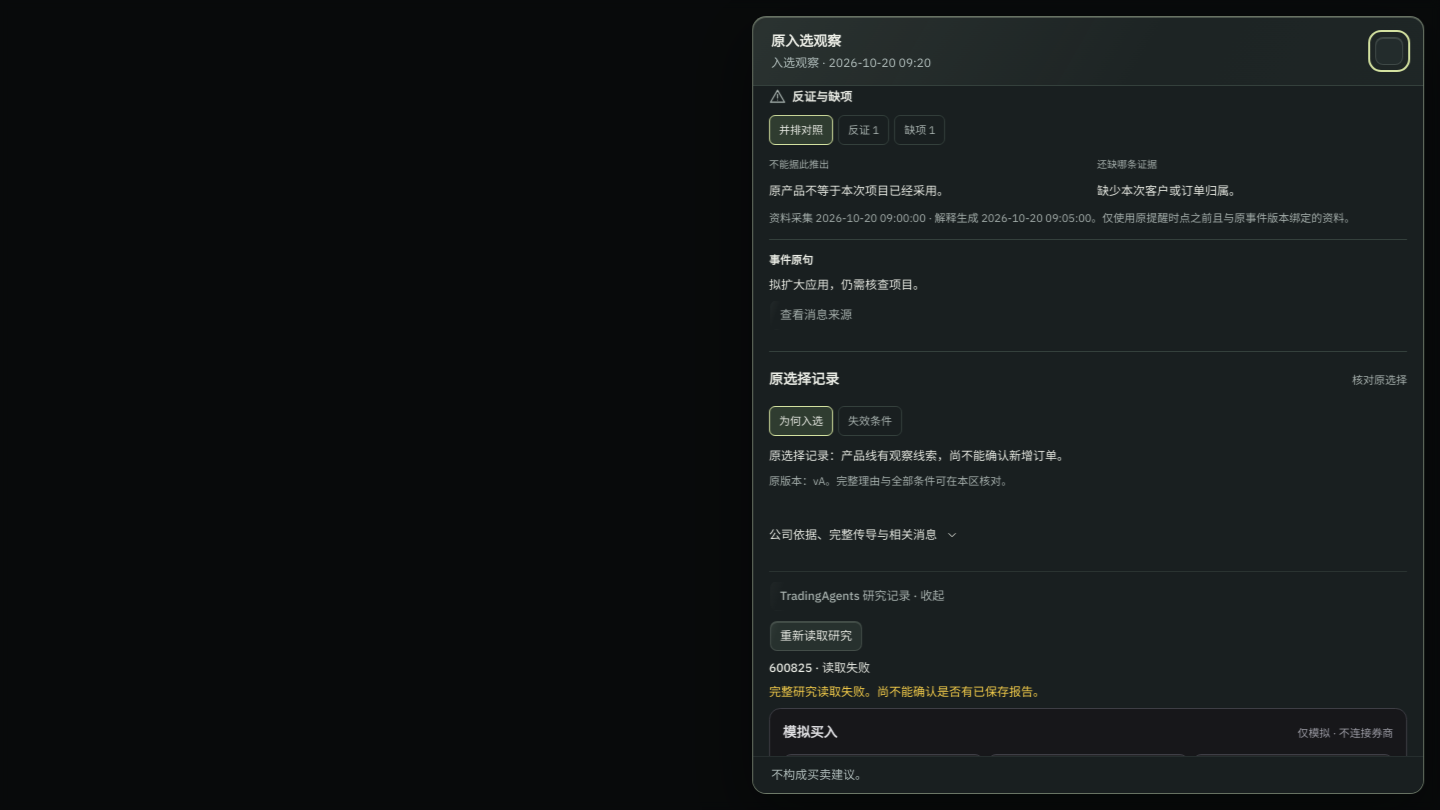
switches original reason and invalidation without turning review into a business confirmation
The image size is (1440, 810).
(page scrolled)
Expected: the text named "当前原选择摘录" reads "原选择记录：产品线有观察线索，尚不能确认新增订单。", x1=769 y1=448 x2=1069 y2=463
Click the button "失效条件" at (870, 421), box x1=838 y1=406 x2=902 y2=436
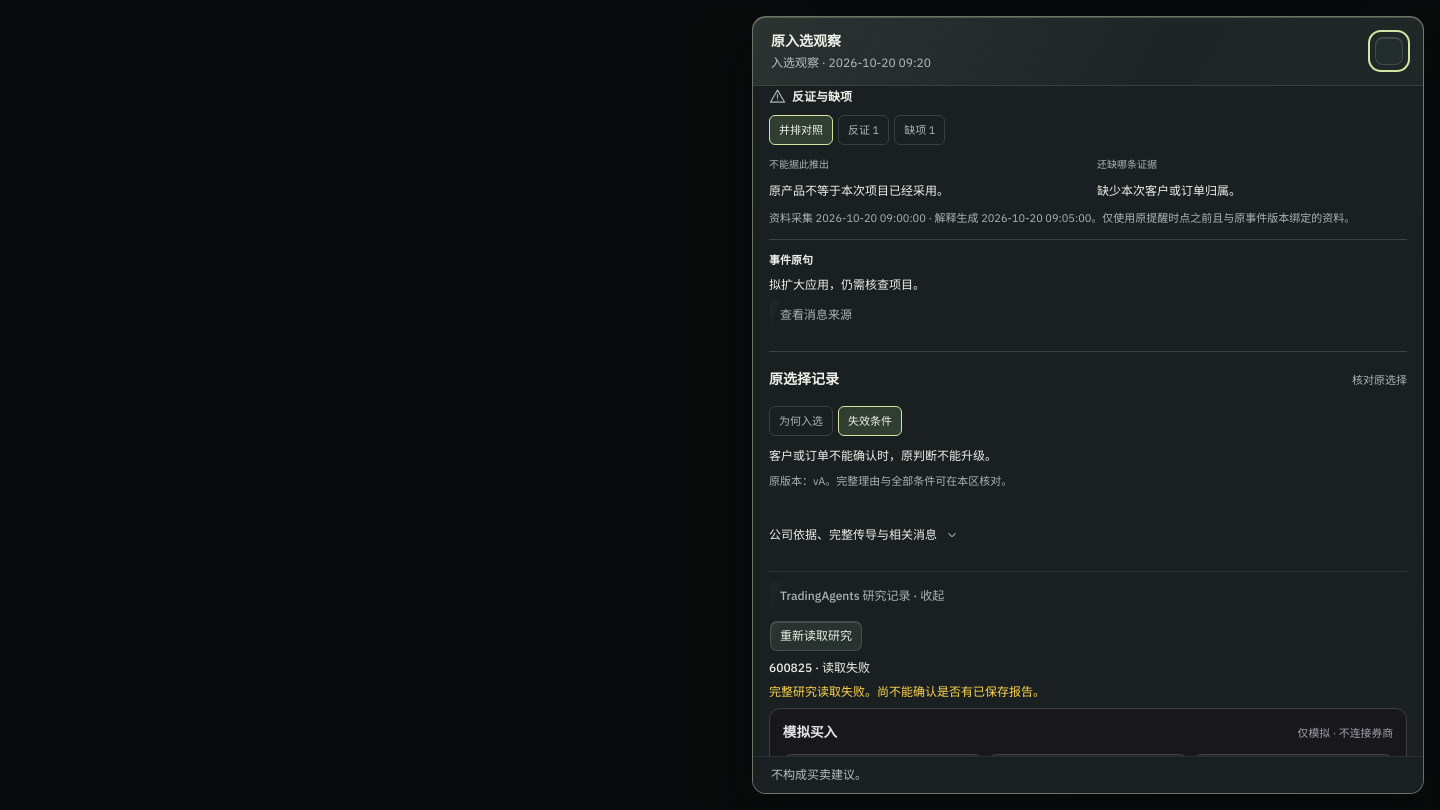
Expected: the text named "当前原选择摘录" reads "客户或订单不能确认时，原判断不能升级。", x1=769 y1=448 x2=997 y2=463
